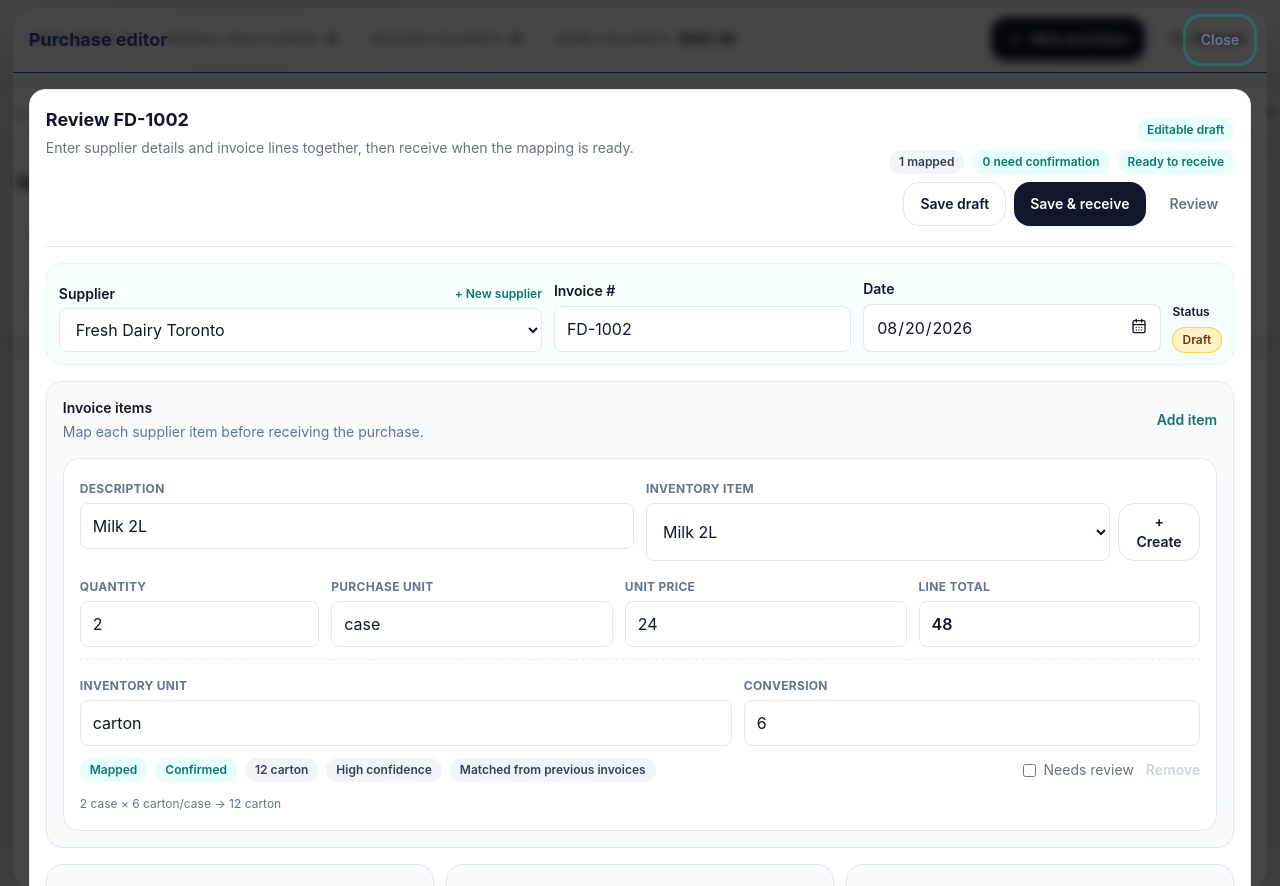
PilotPurchasesPage › refreshes purchase history when reconciliation confirms a completed receipt
This screenshot has width=1280, height=886.
Expected: the heading "Review FD-1002" is shown, [46,109,189,130]
Click the button "Review": (1194,204) [1154,182,1234,226]
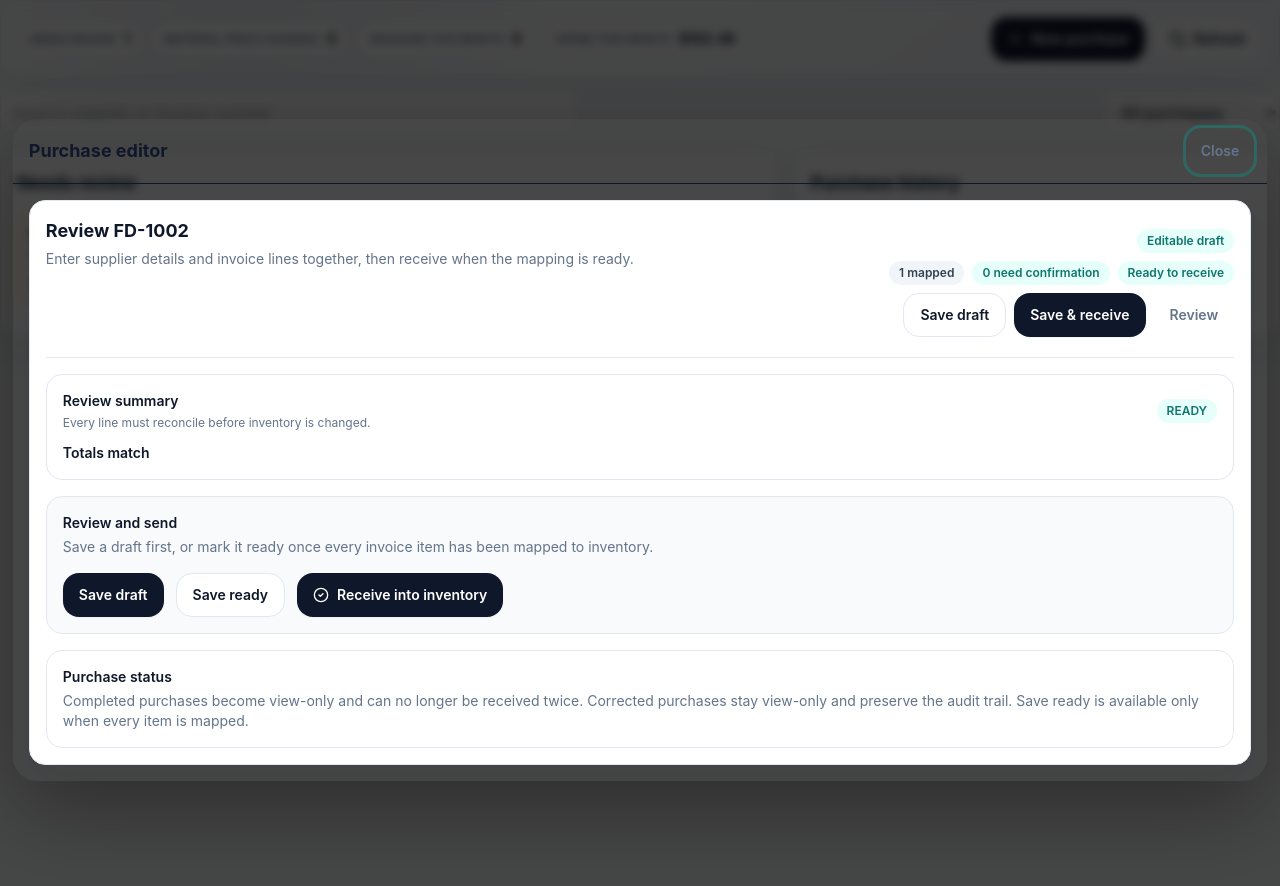
Click the button "Receive into inventory": (400,595) [297,573,503,617]
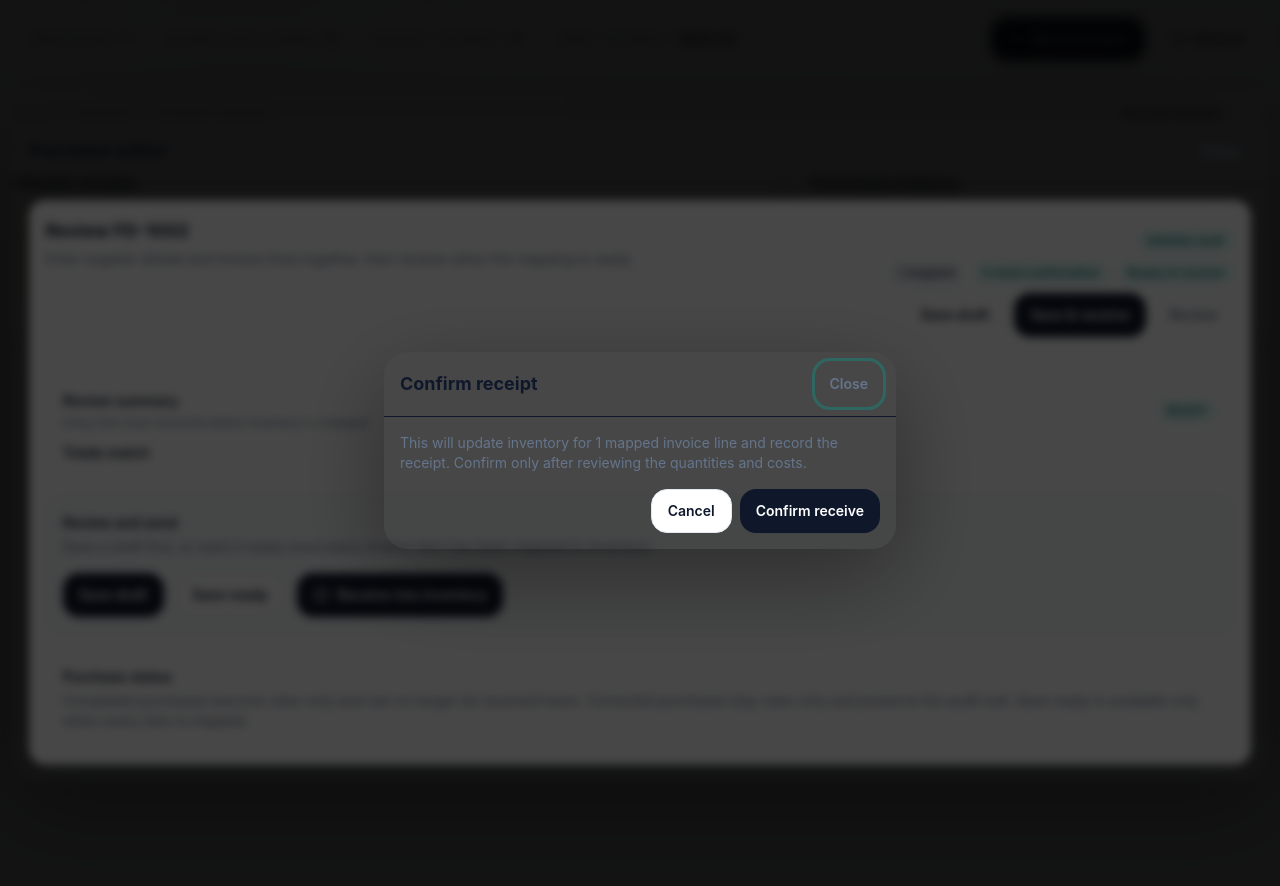
Click the button "Confirm receive": (810,510) [740,488,880,532]
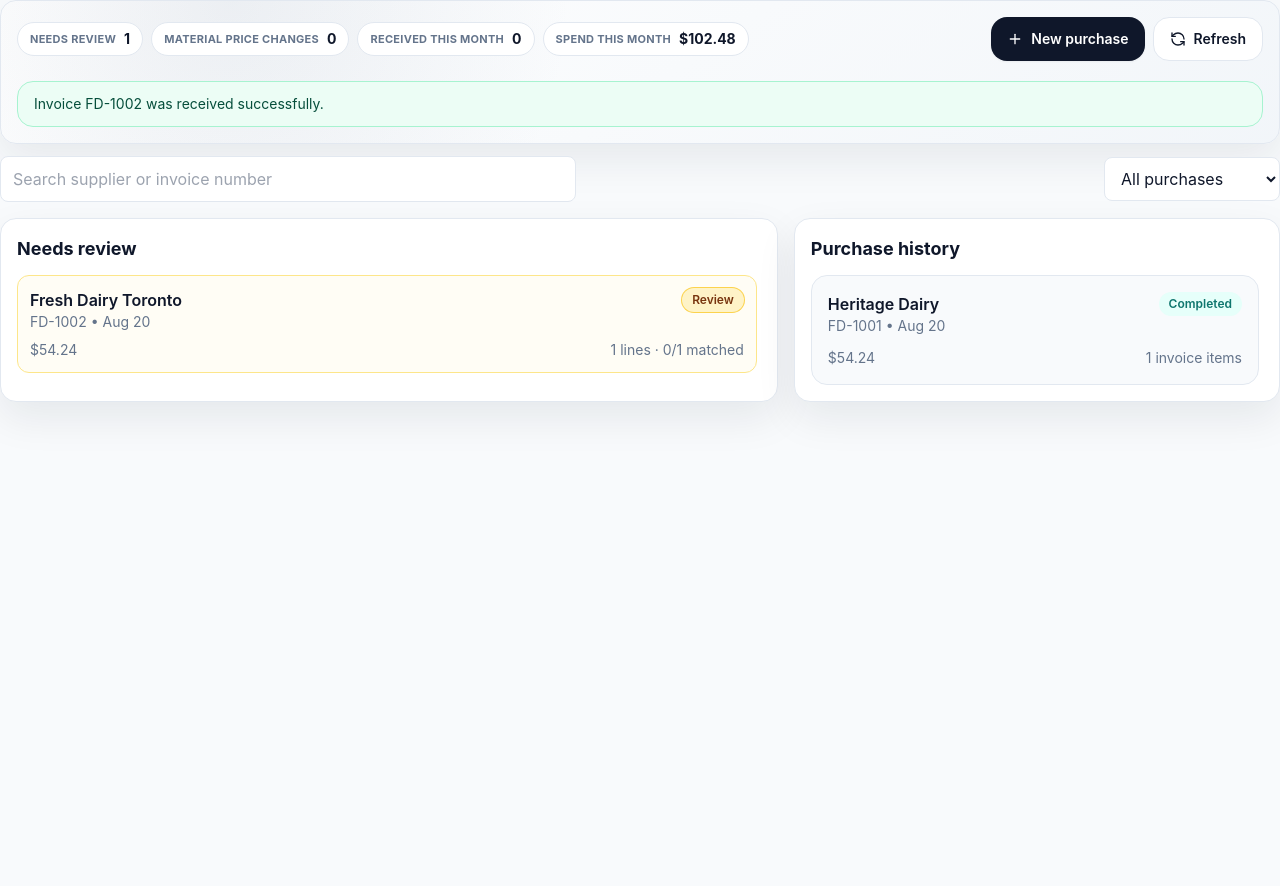
Result: the text "Invoice FD-1002 was received successfully." is shown at [17,81,1263,127]
Result: the button "Confirm receive" is gone
